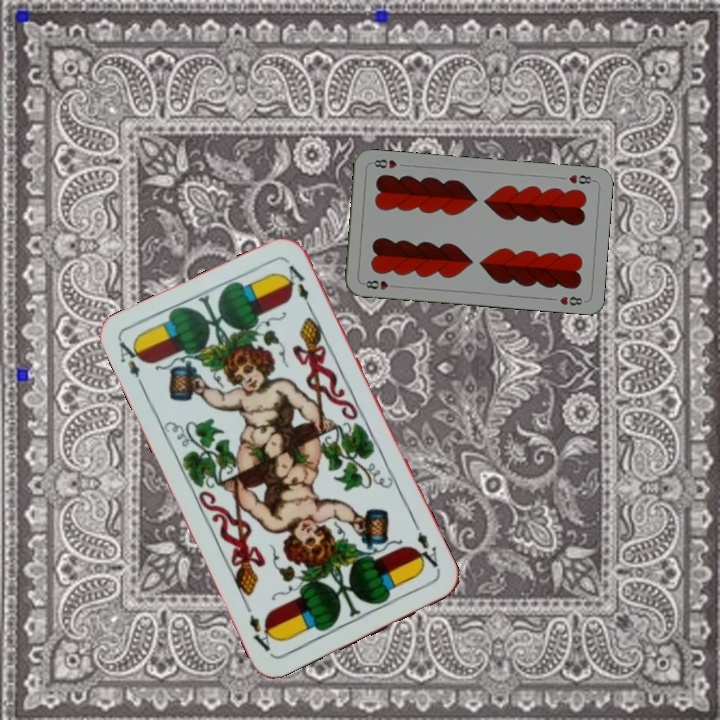EA: (410, 519, 443, 575), (115, 337, 148, 393)
H8: (359, 276, 400, 292), (565, 170, 597, 187)
